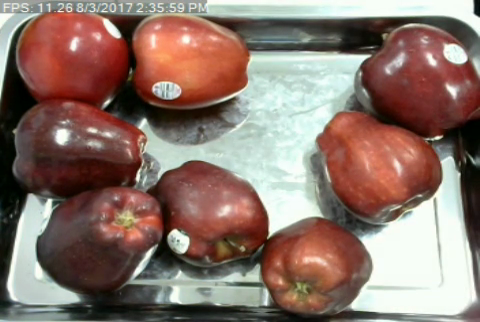Apple: (311, 108, 448, 229), (351, 19, 480, 142), (34, 181, 164, 295), (8, 96, 150, 196), (153, 158, 270, 271), (127, 9, 251, 113), (12, 7, 132, 109), (258, 216, 377, 318)
